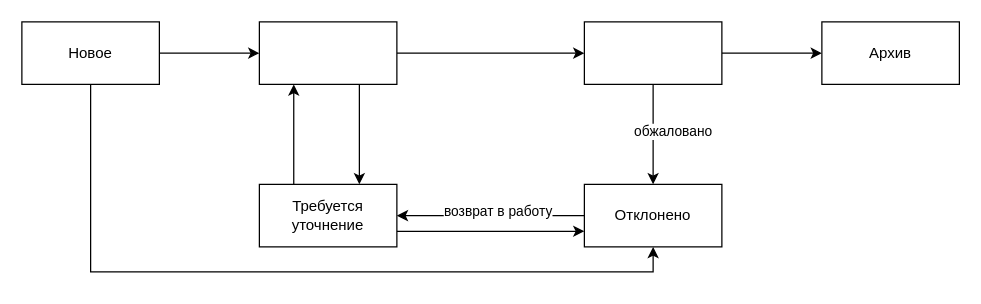
This 981x304 diagram has some shape labels left out. Each missing label, with the centre of its shape:
В работе: the point at 327,52
Устранено: the point at 652,52
